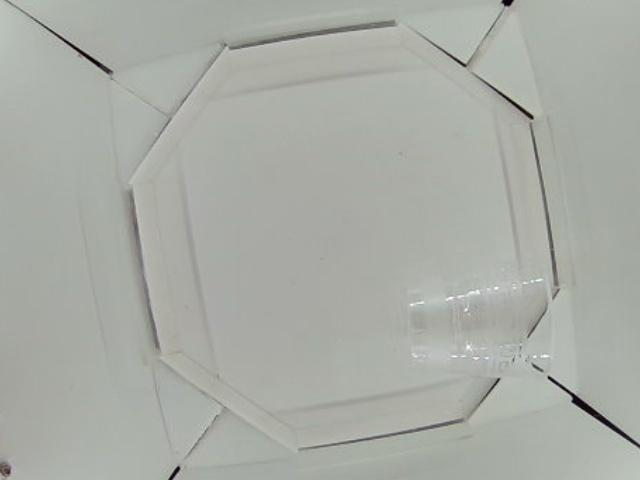Cup: (405, 272, 558, 388)
